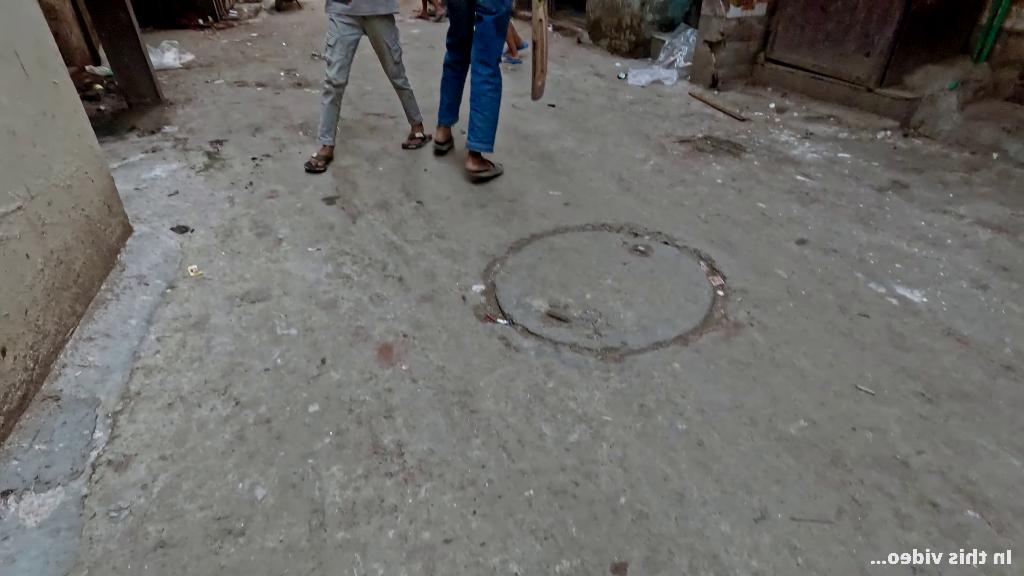garbage: (656, 23, 700, 72), (629, 63, 676, 87)
